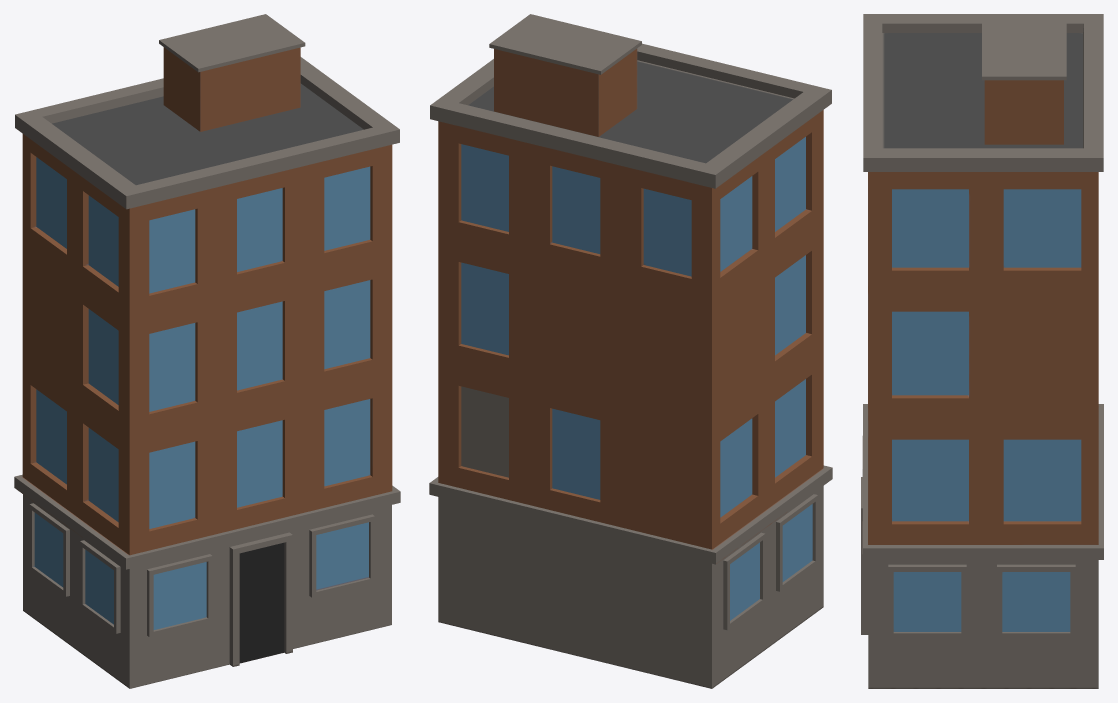
File: CityBuilding01.glb
3 renders of one model, left to right at view 1: azimuth 30°, elevation 25°; view 2: azimuth 150°, elevation 25°; view 3: azimuth 270°, elevation 25°, orthographic. The views are drawn at different scales.
Visible parts, largest first — view 1: CityBuilding01; view 2: CityBuilding01; view 3: CityBuilding01.
Boxes of the visible parts, bbox=[...] form: CityBuilding01: bbox=[14, 14, 400, 688]; CityBuilding01: bbox=[429, 14, 832, 688]; CityBuilding01: bbox=[861, 14, 1103, 688].
Size of what is drawn, in the model's own units: 4.64 by 8.92 by 3.3.
Materials: 1 (1 with a texture image).
